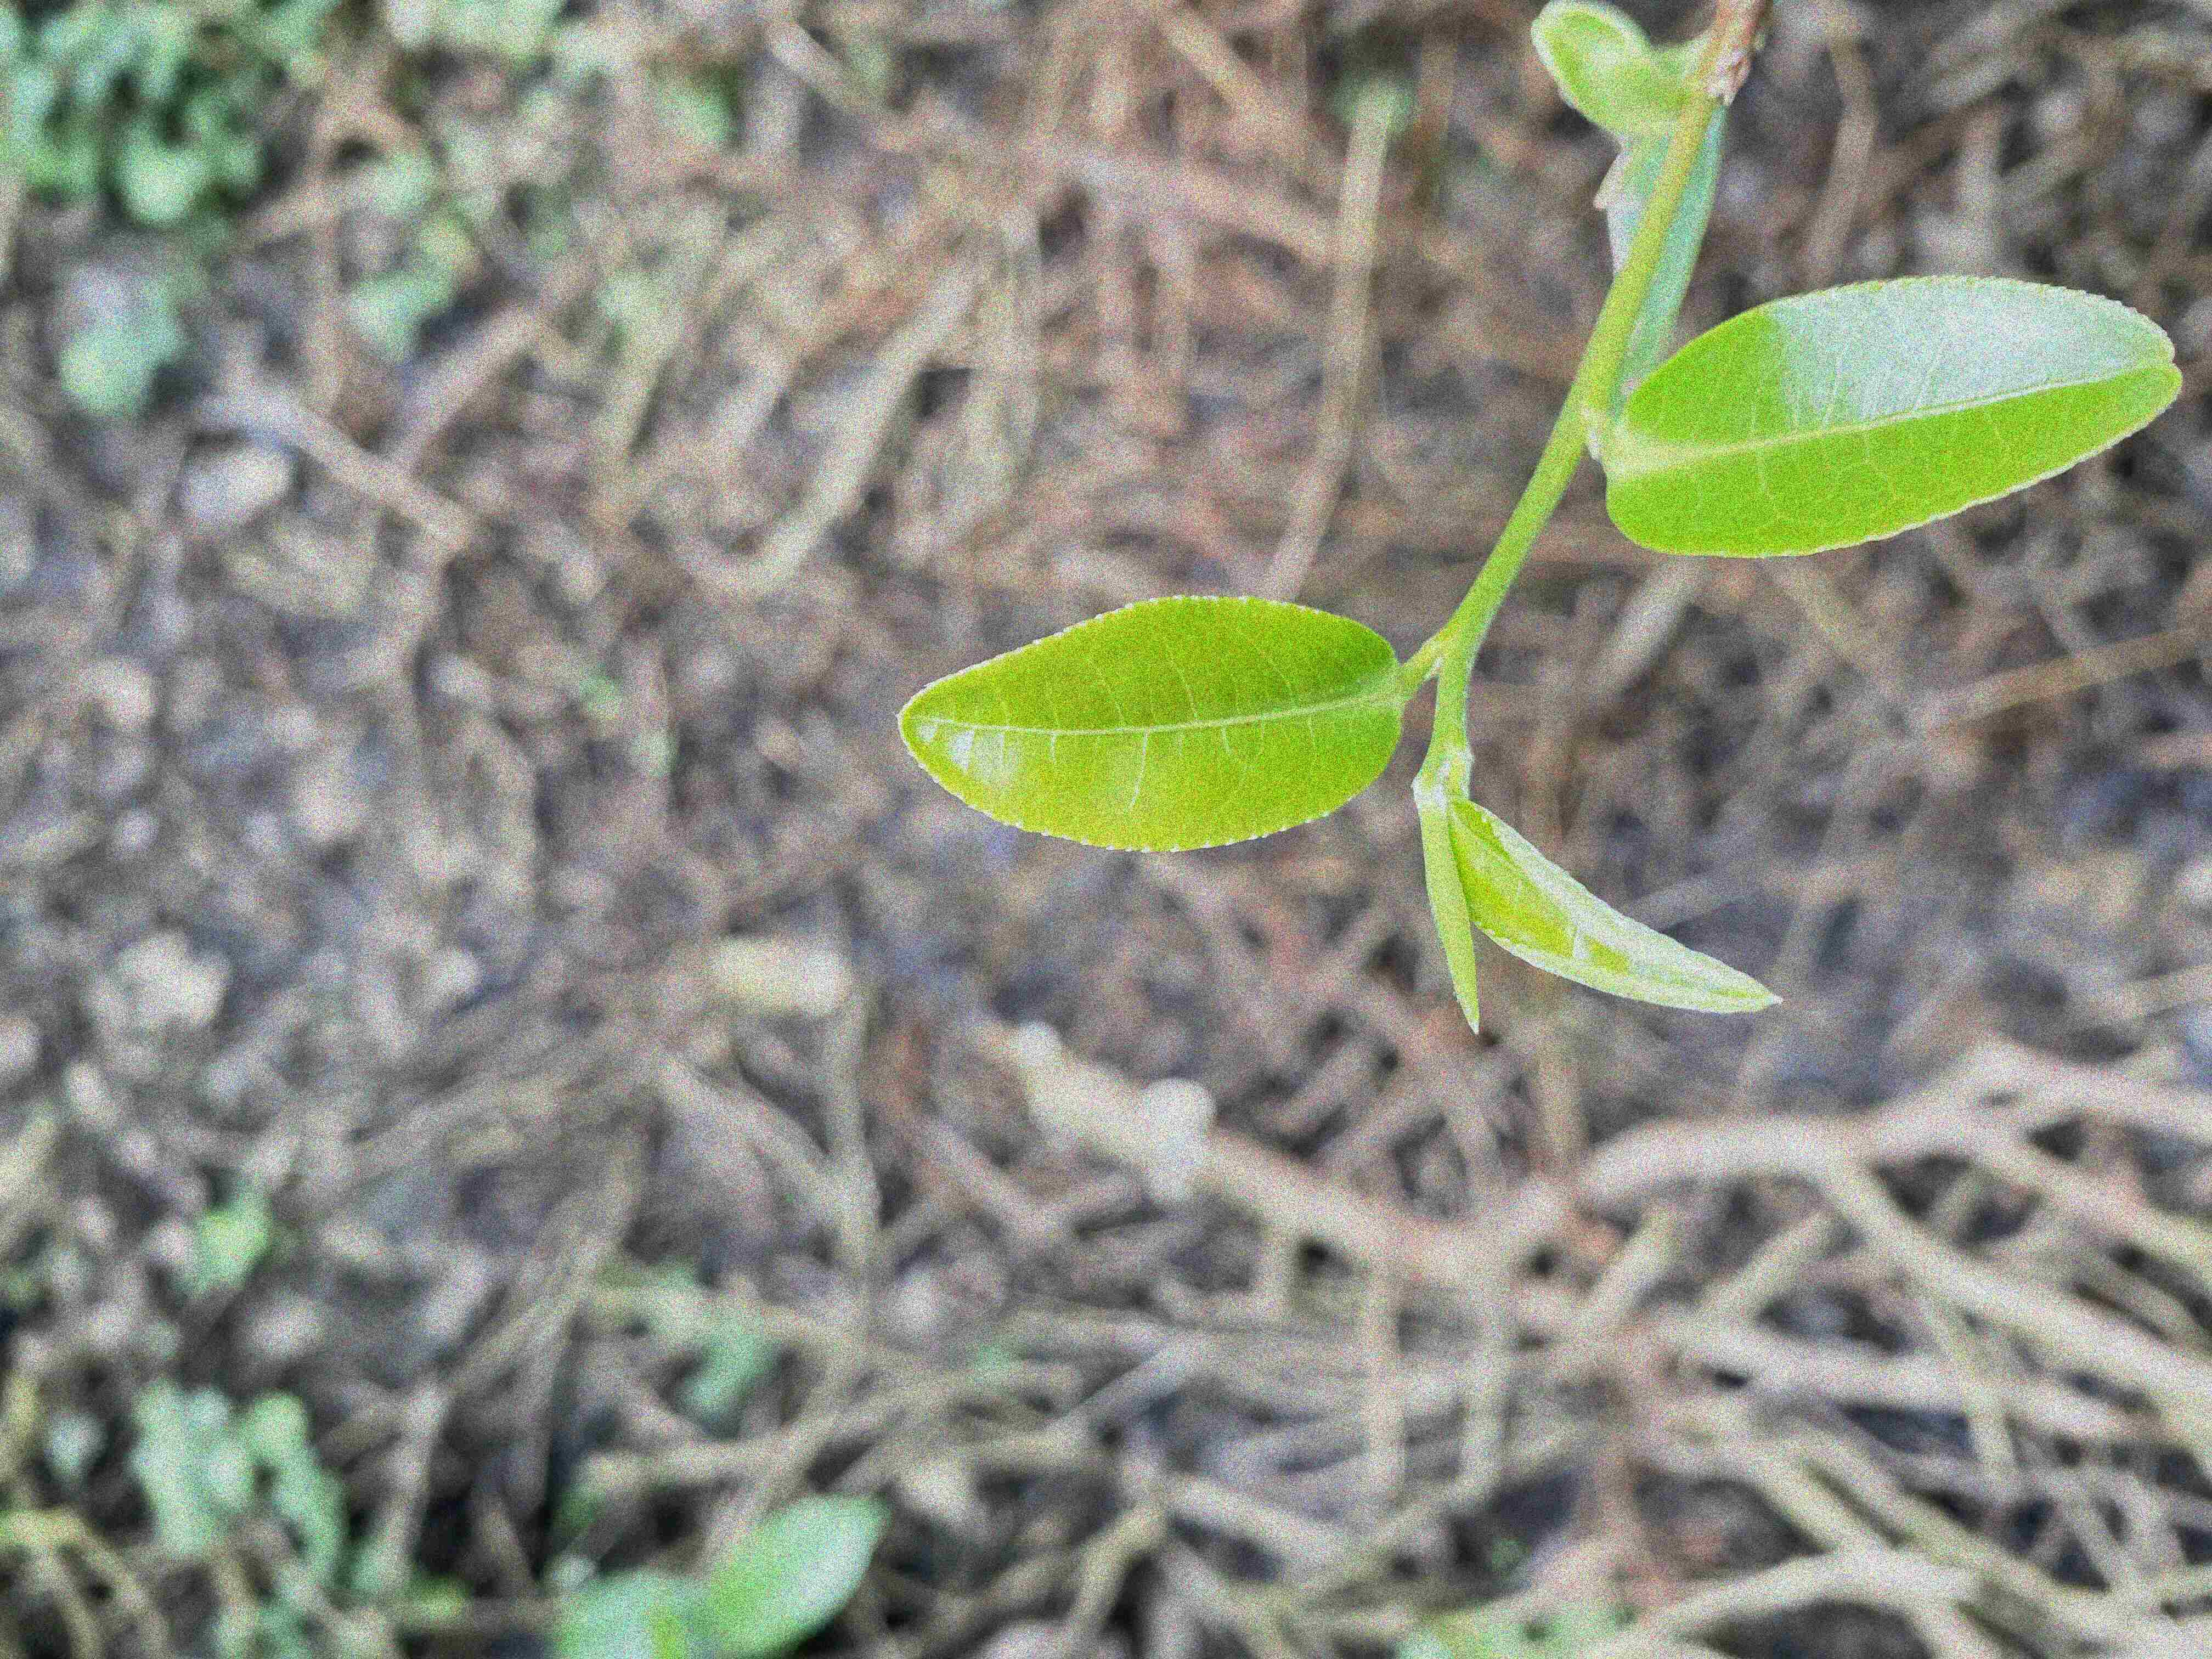healthy: (1599, 272, 2184, 559), (894, 592, 1404, 856), (1451, 800, 1778, 1012)
